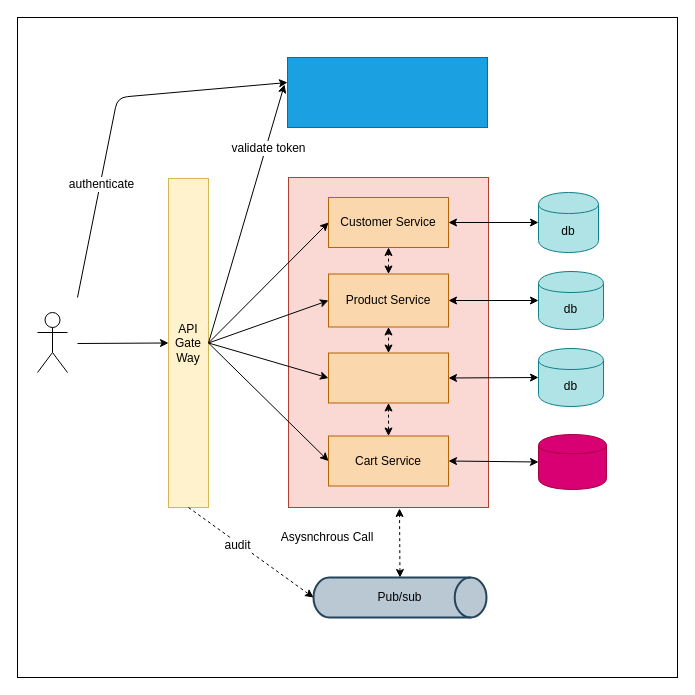
This 695x695 diagram has some shape labels left out. The shapes that lost their labels are listed below. From the top down, each one's centre as x and y in pixels, then its label:
At (387,92): "Authenticate Service (External)".
At (52,342): "Actor".
At (388,377): "Order Service".
At (572,462): "MemCache (Redis)".
